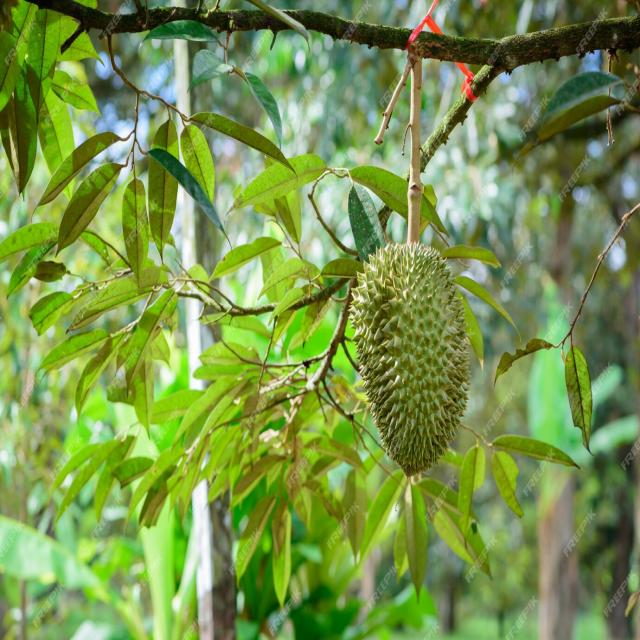immature: (342, 240, 473, 484)
